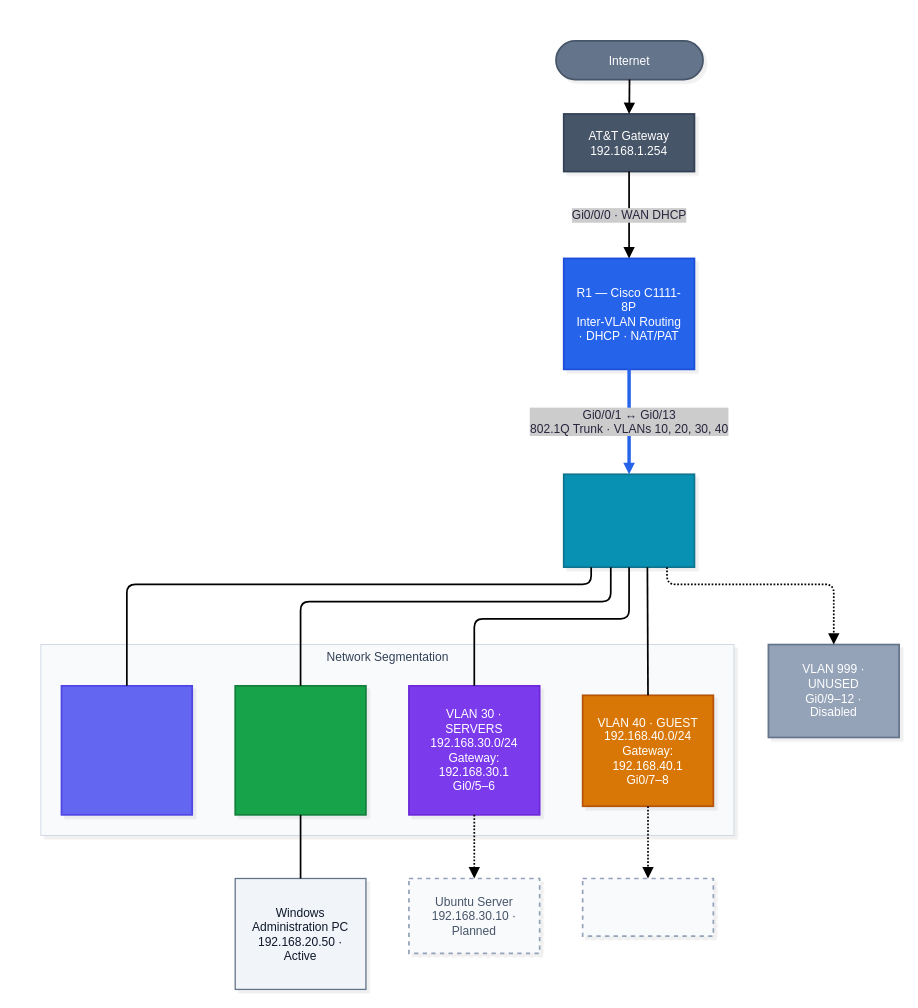
Image size: 918x1008. Some labels were removed from this diagram. Each missing label, with the centre of its shape:
"Guest Device Planned" belongs at (x=649, y=908).
"SW1 — Catalyst 3560CX Management IP: 192.168.10.2" belongs at (x=630, y=522).
"VLAN 10 · MANAGEMENT 192.168.10.0/24 Gateway: 192.168.10.1 Gi0/14" belongs at (x=128, y=752).
"VLAN 20 · CLIENTS 192.168.20.0/24 Gateway: 192.168.20.1 Gi0/1–4" belongs at (x=302, y=752).
